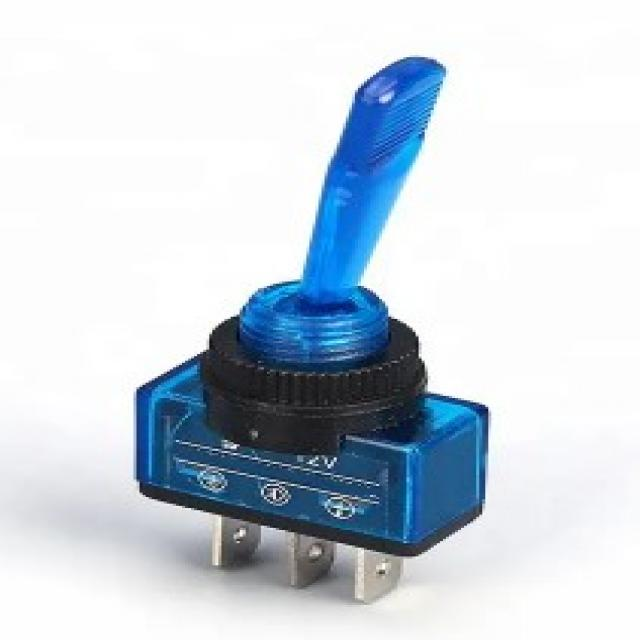toggle switch: (202, 54, 447, 417)
